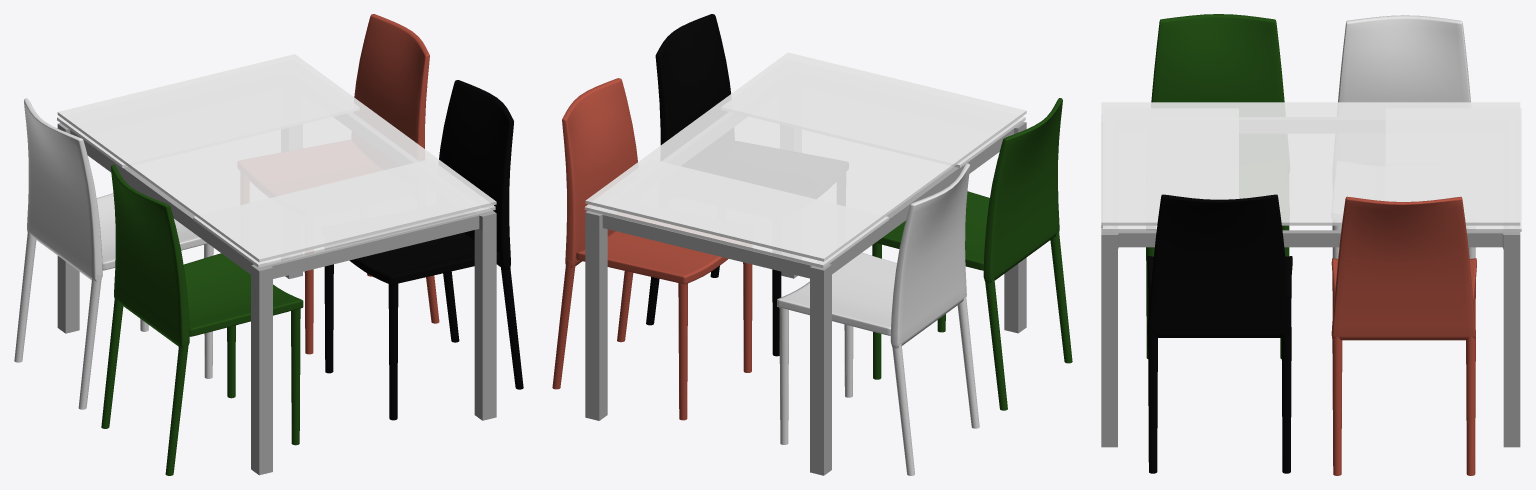
The model's file is dining_set.glb.
3 renders of one model, left to right at view 1: azimuth 30°, elevation 25°; view 2: azimuth 150°, elevation 25°; view 3: azimuth 270°, elevation 25°, orthographic. The views are drawn at different scales.
Parts seen in each view (by area): view 1: mesa-vidrio_15, mesa-estructura_13, Cube.013_3, Cube.012_2, Cube.007_0, Cube.011_1, Plane.009_11, Cylinder.013_7, Cylinder.008_4, Plane.007_9, Cylinder.012_6, mesa-extension_14 (+2 smaller); view 2: mesa-vidrio_15, mesa-estructura_13, Cube.012_2, Cube.013_3, Cube.011_1, Cube.007_0, Plane.008_10, Cylinder.012_6, Cylinder.011_5, Plane.006_8, Cylinder.013_7, mesa-extension_14 (+2 smaller); view 3: mesa-vidrio_15, Cube.011_1, Cube.007_0, Cube.013_3, Cube.012_2, mesa-estructura_13, Cylinder.011_5, Cylinder.008_4, mesa-extension_14, Cylinder.013_7.
Boxes of the visible parts, x1,y1,x2,y2 form: mesa-vidrio_15: (57,54,496,262); mesa-estructura_13: (57,123,496,475); Cube.013_3: (111,165,189,348); Cube.012_2: (24,98,102,281); Cube.007_0: (439,80,513,269); Cube.011_1: (354,14,429,148); Plane.009_11: (183,253,303,336); Cylinder.013_7: (101,297,300,475); Cylinder.008_4: (324,260,523,420); Plane.007_9: (349,232,499,284); Cylinder.012_6: (14,231,213,409); mesa-extension_14: (57,116,495,267); mesa-vidrio_15: (585,52,1026,261); mesa-estructura_13: (585,121,1026,475); Cube.012_2: (890,163,969,348); Cube.013_3: (983,98,1062,282); Cube.011_1: (562,78,637,268); Cube.007_0: (655,14,730,145); Plane.008_10: (777,253,896,335); Cylinder.012_6: (779,296,979,475); Cylinder.011_5: (552,260,752,420); Plane.006_8: (576,231,728,284); Cylinder.013_7: (872,231,1072,410); mesa-extension_14: (584,116,1025,267); mesa-vidrio_15: (1101,102,1520,225); Cube.011_1: (1331,196,1475,340); Cube.007_0: (1147,194,1291,337); Cube.013_3: (1151,14,1284,102); Cube.012_2: (1338,15,1470,102); mesa-estructura_13: (1101,225,1520,447); Cylinder.011_5: (1332,275,1475,475); Cylinder.008_4: (1148,273,1291,473); mesa-extension_14: (1102,108,1521,231); Cylinder.013_7: (1146,225,1289,358).
Bounding box in the file's own units: 1.34 × 0.9064 × 1.25.
